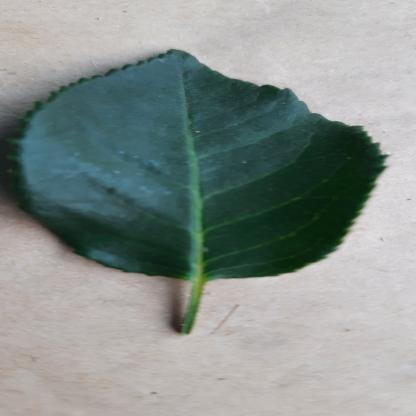normal: (15, 48, 393, 282)
